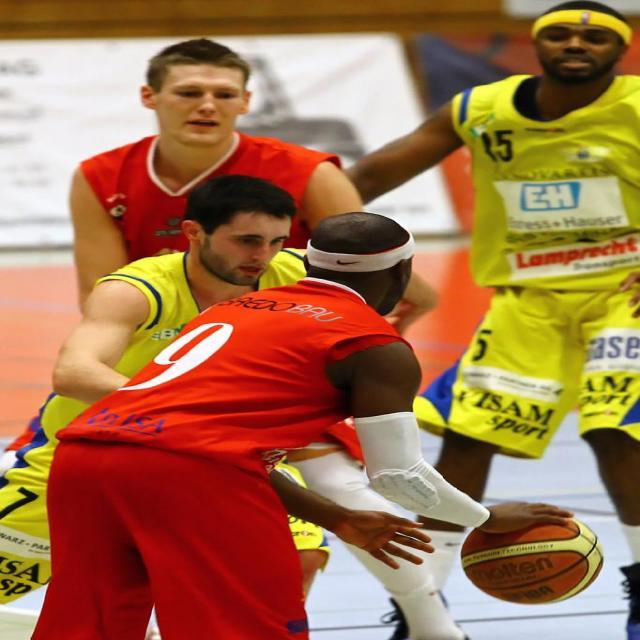rim: (459, 507, 604, 602)
